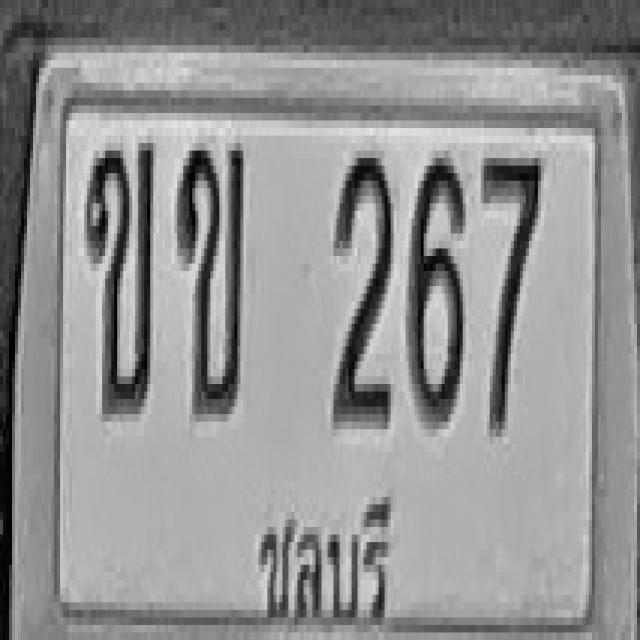11KhorKhai: (176, 139, 245, 418), (84, 136, 153, 414)
2: (332, 150, 392, 422)
6: (407, 150, 464, 422)
7: (481, 151, 541, 429)
Chonburi: (249, 489, 399, 636)
